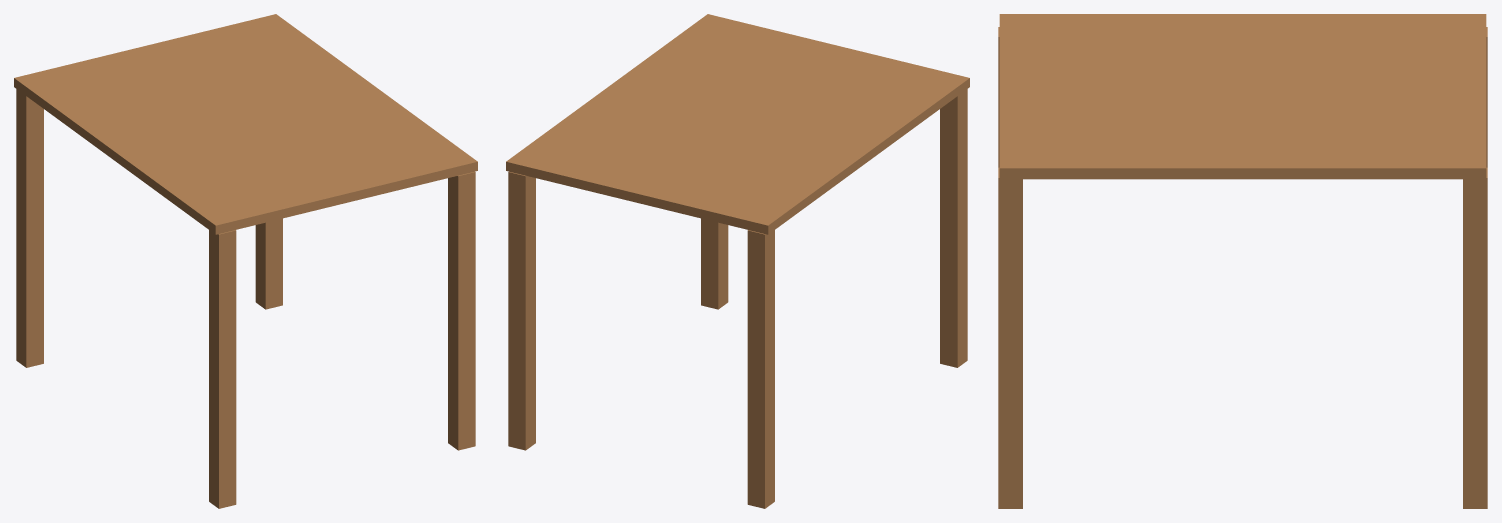
File: Meja Belajar Kayu.fbx
3 renders of one model, left to right at view 1: azimuth 30°, elevation 25°; view 2: azimuth 150°, elevation 25°; view 3: azimuth 270°, elevation 25°, orthographic. The views are drawn at different scales.
Visible parts, largest first — view 1: Cube, Cube.001; view 2: Cube, Cube.001; view 3: Cube, Cube.001.
Part boxes in pixels (x1=…): Cube: x1=14, y1=14, x2=477, y2=234; Cube.001: x1=16, y1=89, x2=475, y2=508; Cube: x1=506, y1=14, x2=969, y2=234; Cube.001: x1=508, y1=89, x2=967, y2=508; Cube: x1=999, y1=14, x2=1486, y2=179; Cube.001: x1=998, y1=27, x2=1487, y2=508.
Size of the model in its own units: 150 by 155 by 201.
